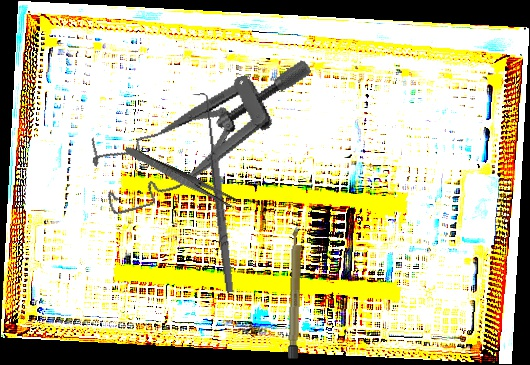Dressing Forceps: (122, 144, 239, 210)
Hook Surgical: (192, 92, 237, 294)
Scalpel Handle: (287, 225, 304, 360)
Speculum: (80, 57, 335, 218)
